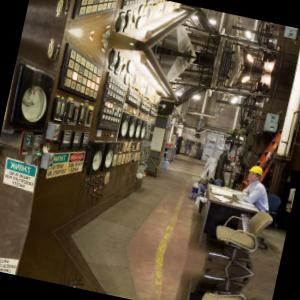helmet: (246, 163, 266, 186)
